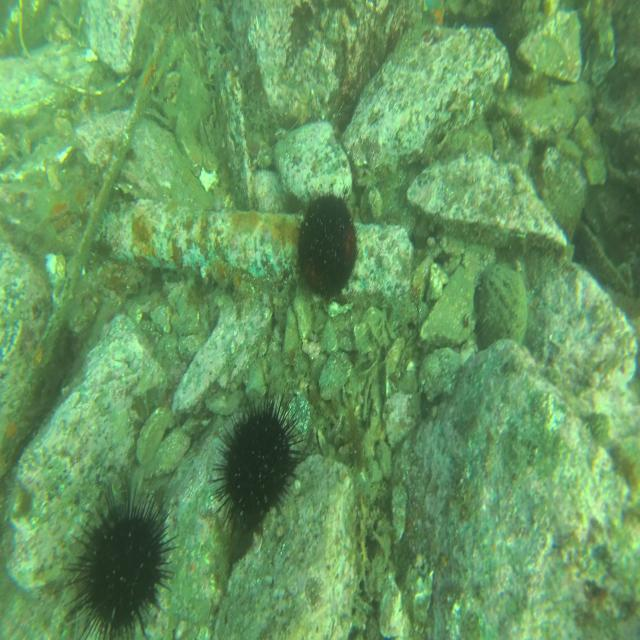echinus: (67, 479, 177, 640), (208, 396, 300, 536), (292, 185, 359, 305)
starfish: (419, 0, 448, 28)
